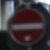No entry: (6, 6, 45, 45)
